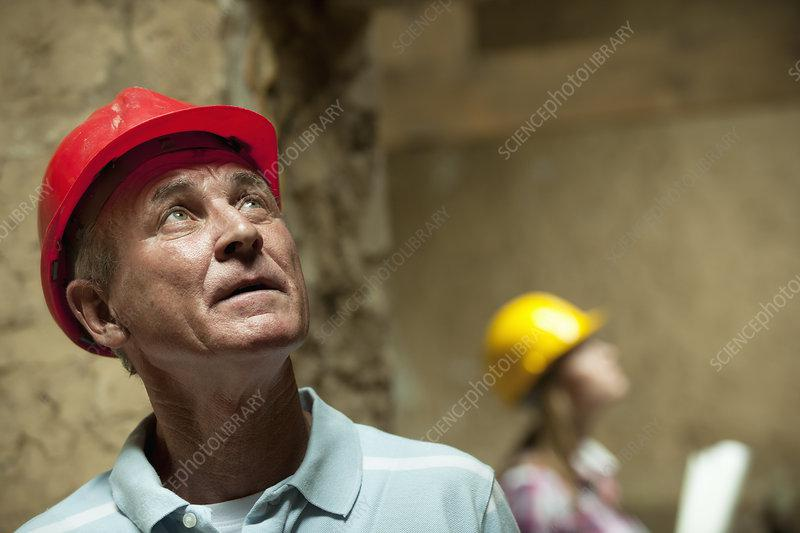hardhat: (35, 85, 288, 359)
worker: (10, 84, 521, 533)
